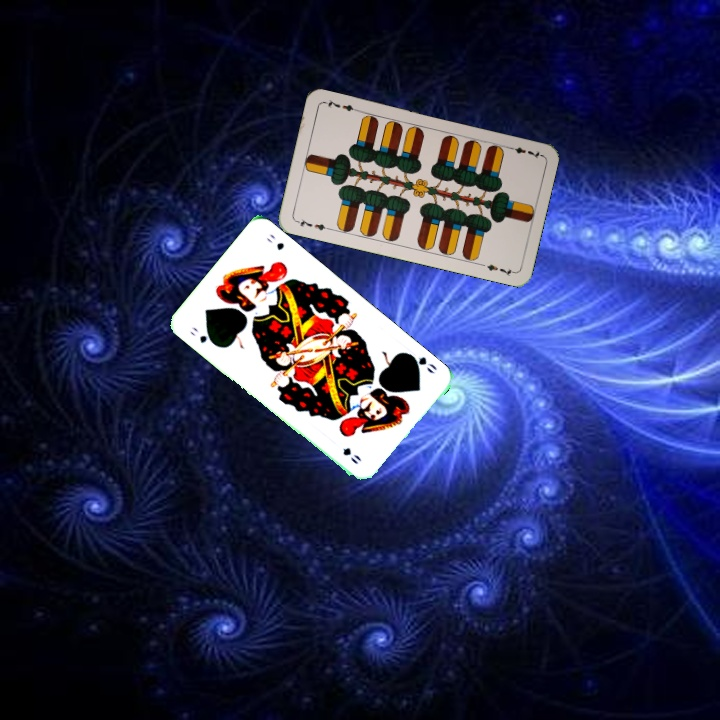E7: (503, 142, 544, 161), (292, 215, 332, 233)
GO: (405, 350, 439, 376), (186, 322, 219, 348)
